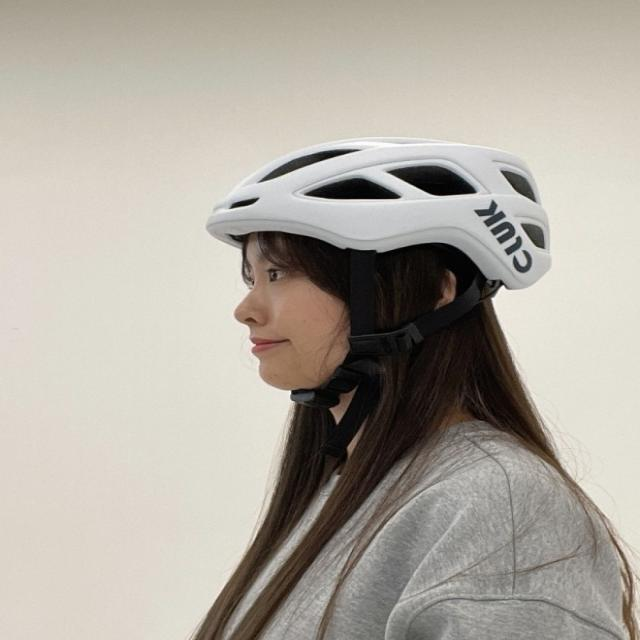Helmet: (194, 129, 566, 405)
